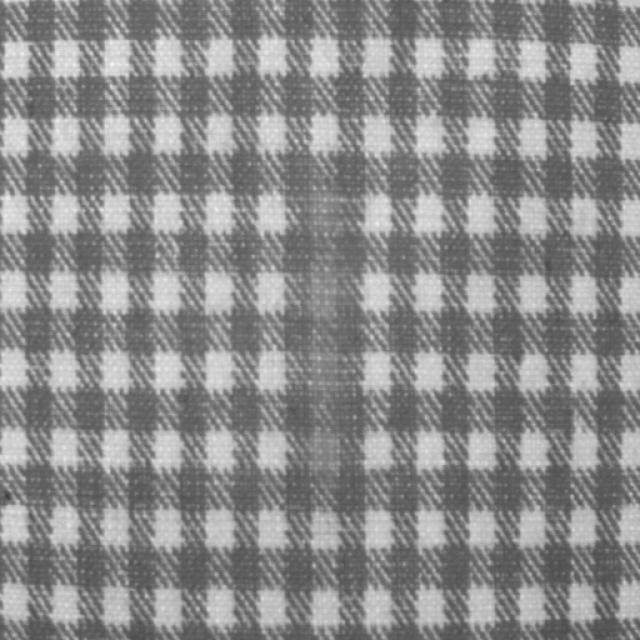Stain-Defect: (300, 190, 356, 486)
